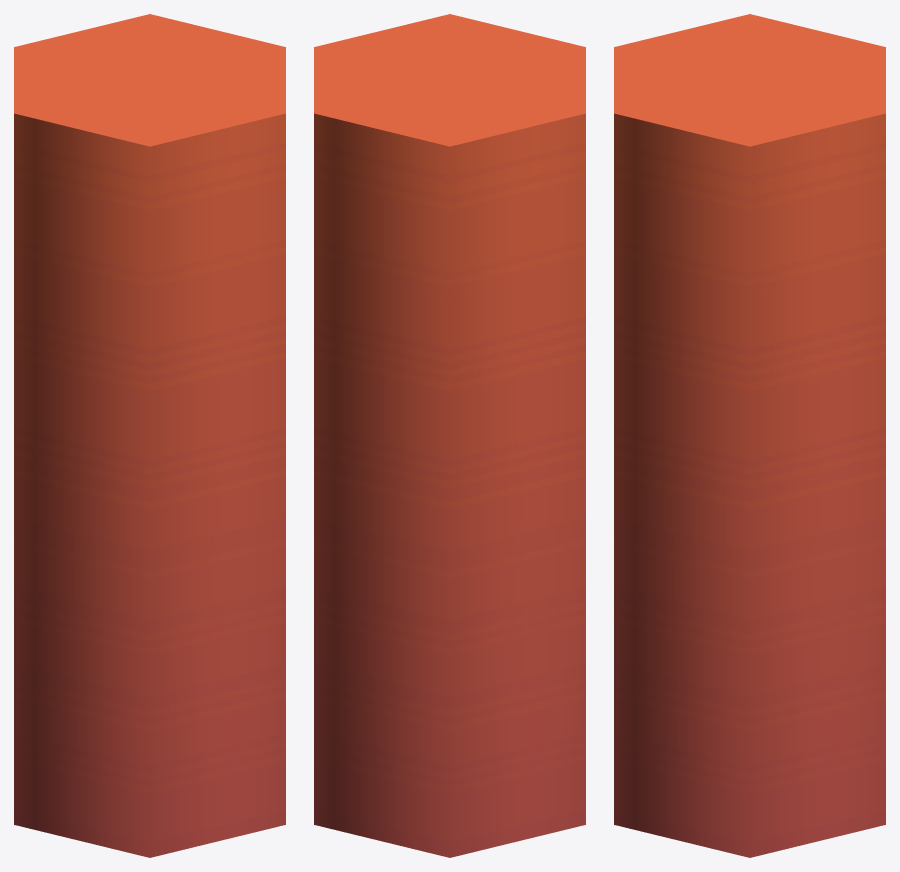
File: pipe-half.glb
3 renders of one model, left to right at view 1: azimuth 30°, elevation 25°; view 2: azimuth 150°, elevation 25°; view 3: azimuth 270°, elevation 25°, orthographic.
Visible parts, largest first — view 1: pipe-half; view 2: pipe-half; view 3: pipe-half.
Part boxes in pixels (bbox=[...]): pipe-half: bbox=[14, 14, 285, 857]; pipe-half: bbox=[314, 14, 585, 857]; pipe-half: bbox=[614, 14, 885, 857].
Size of the model in its own units: 0.2 by 0.5 by 0.1732.
Materials: 1 (1 with a texture image).
